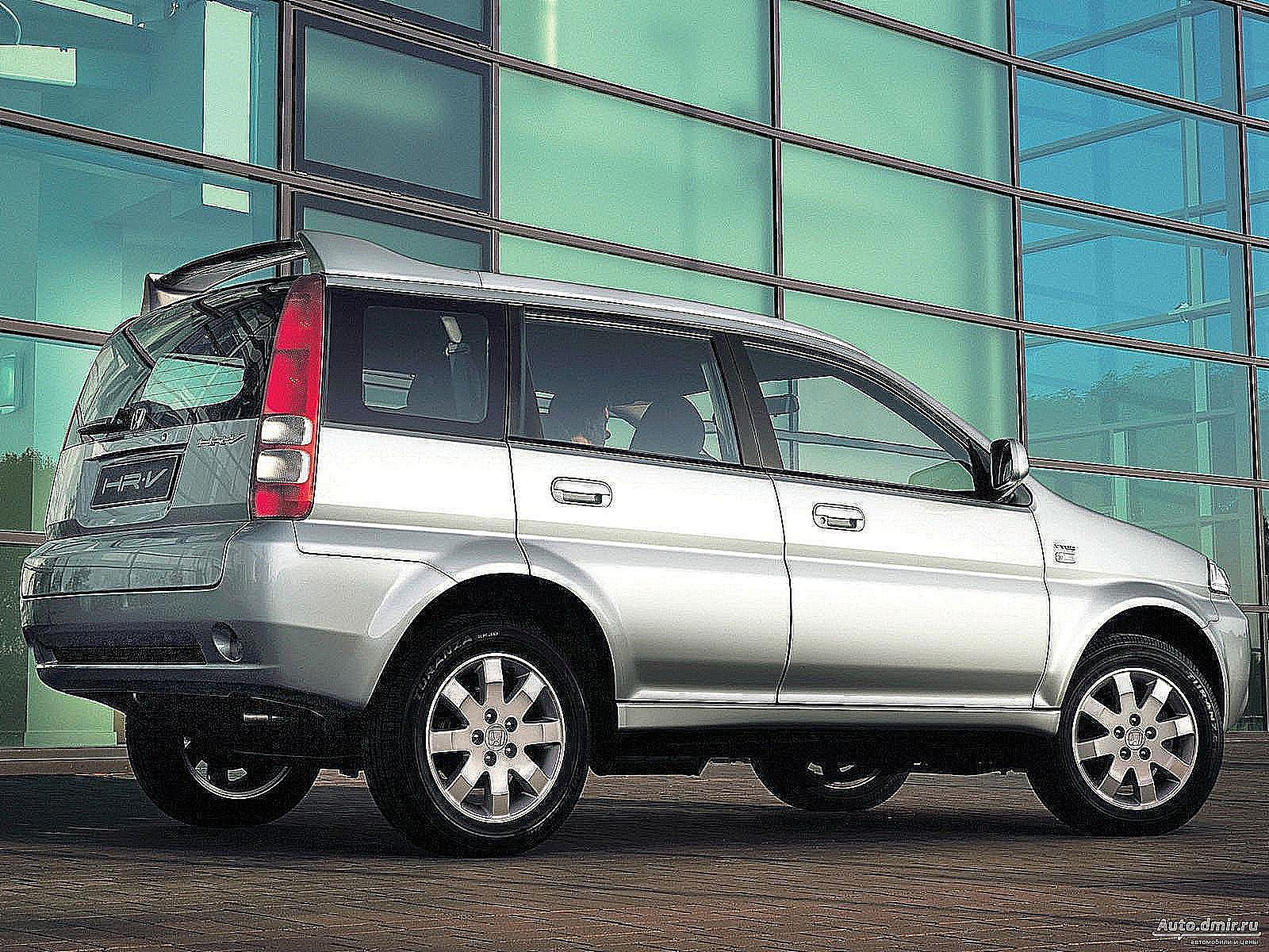Car boot: (16, 270, 301, 599)
Driver-s door - -F-R-: (766, 338, 1051, 713)
Fender - -F-R-: (1031, 481, 1225, 723)
Fender - -R-R-: (293, 423, 541, 597)
Front bumper: (1206, 619, 1254, 733)
Headlight - -R-: (1199, 541, 1238, 606)
Passenger-s door - -R-R-: (509, 305, 776, 710)
Rear bumper: (21, 556, 453, 723)
Rear light - -R-: (246, 268, 328, 524)
Side bumper - -R-: (590, 692, 1069, 767)
Side mirror - -R-: (952, 417, 1043, 507)
